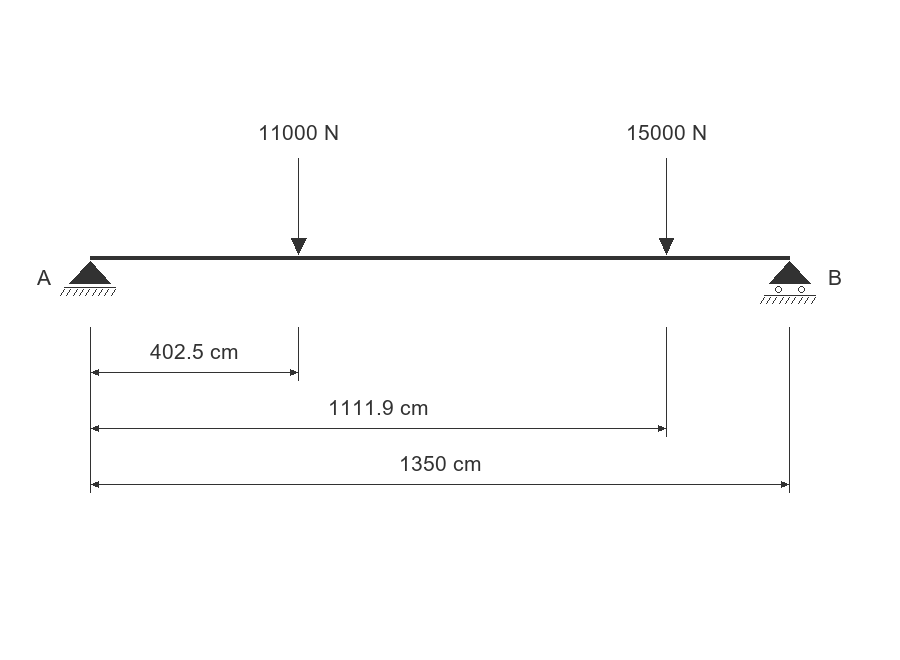pin_support: (60, 261, 116, 296)
point_load: (291, 158, 307, 255), (659, 158, 674, 255)
roller_support: (760, 261, 816, 304)
